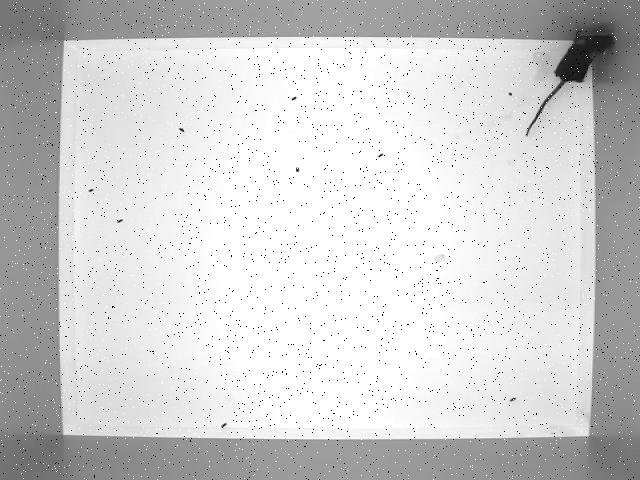Tikus: (524, 28, 614, 138)
